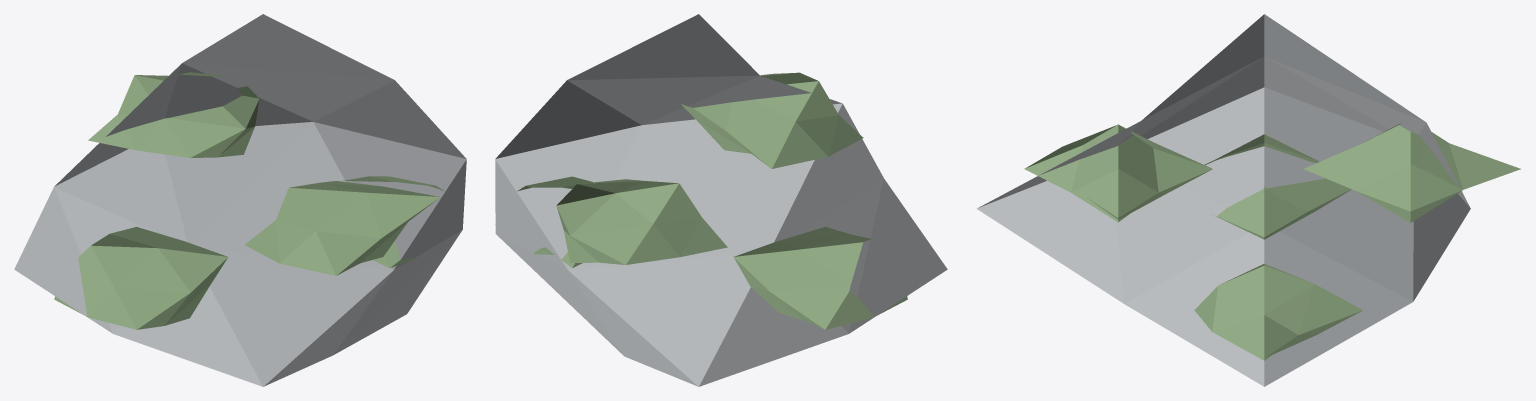
The model's file is moss_rock_v26.glb.
3 renders of one model, left to right at view 1: azimuth 30°, elevation 25°; view 2: azimuth 150°, elevation 25°; view 3: azimuth 270°, elevation 25°, orthographic.
Visible parts, largest first — view 1: lod0; view 2: lod0; view 3: lod0.
Part boxes in pixels (x1,y1,x2,y2): lod0: [14, 14, 466, 386]; lod0: [495, 14, 947, 386]; lod0: [977, 14, 1520, 386].
Size of what is drawn, in the model's own units: 0.8049 by 0.6338 by 0.8394.
